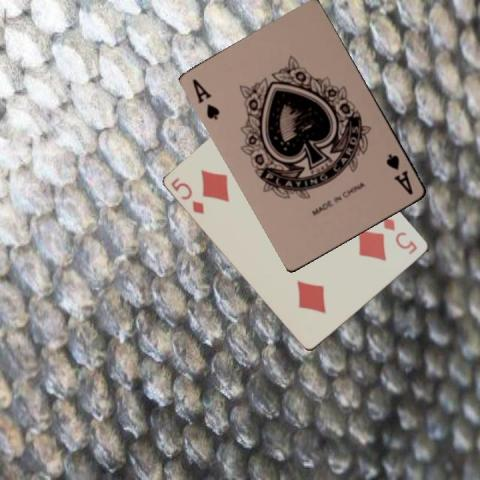5d: (380, 214, 419, 257), (168, 175, 206, 216)
As: (384, 150, 416, 196), (190, 76, 222, 122)
